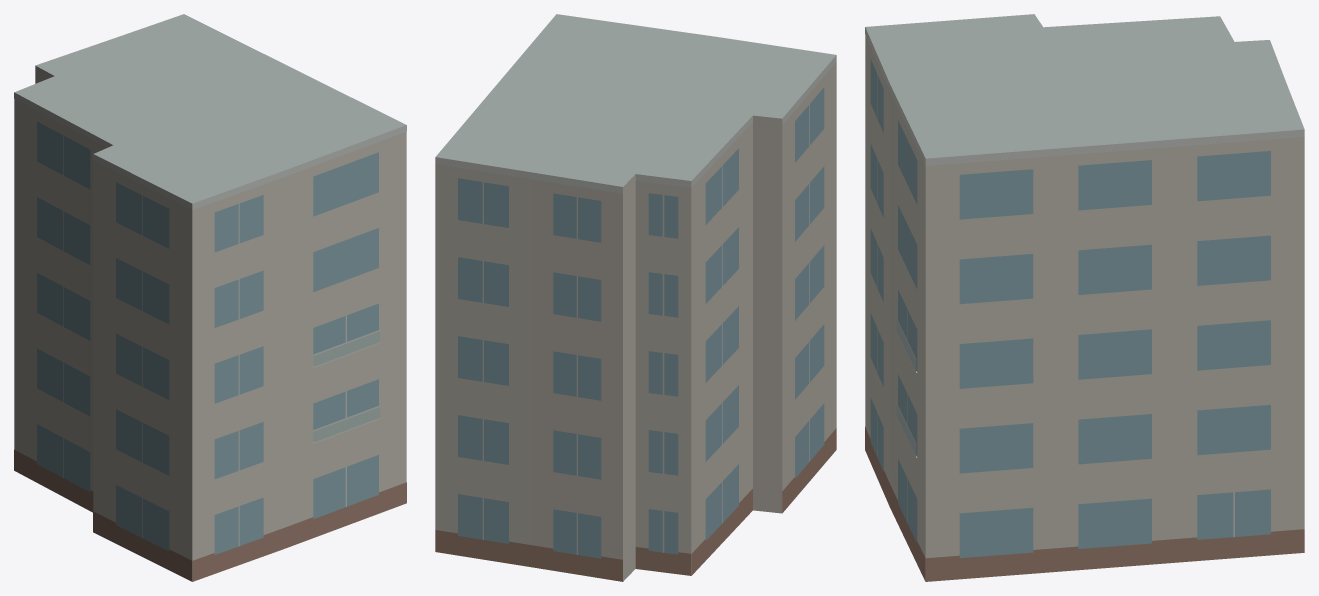
The model's file is survey-upis-32924615.glb.
3 views of the same model, side by side, from view 1: azimuth 30°, elevation 25°; view 2: azimuth 150°, elevation 25°; view 3: azimuth 270°, elevation 25° (orthographic). The views are drawn at different scales.
Parts seen in each view (by area): view 1: survey-upis-32924615.tmp; view 2: survey-upis-32924615.tmp; view 3: survey-upis-32924615.tmp.
Part boxes in pixels (left/top/right/bottom): survey-upis-32924615.tmp: left=14, top=14, right=406, bottom=581; survey-upis-32924615.tmp: left=435, top=14, right=836, bottom=581; survey-upis-32924615.tmp: left=865, top=14, right=1304, bottom=581.
Size of the model in its own units: 10.42 by 14.2 by 13.37.
